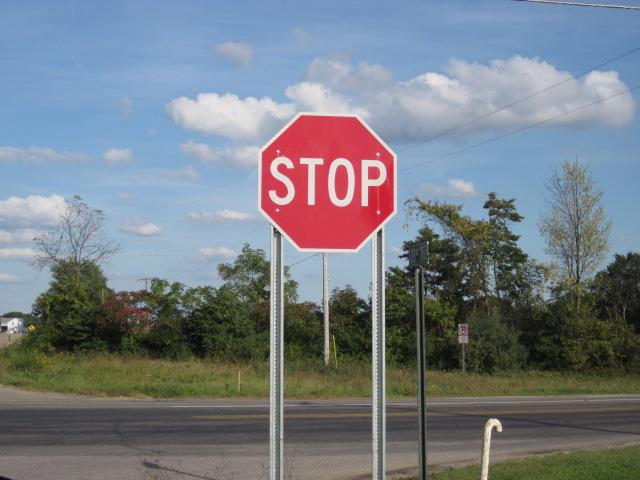stop: (253, 105, 407, 258)
